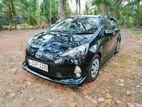car: (24, 16, 121, 86)
